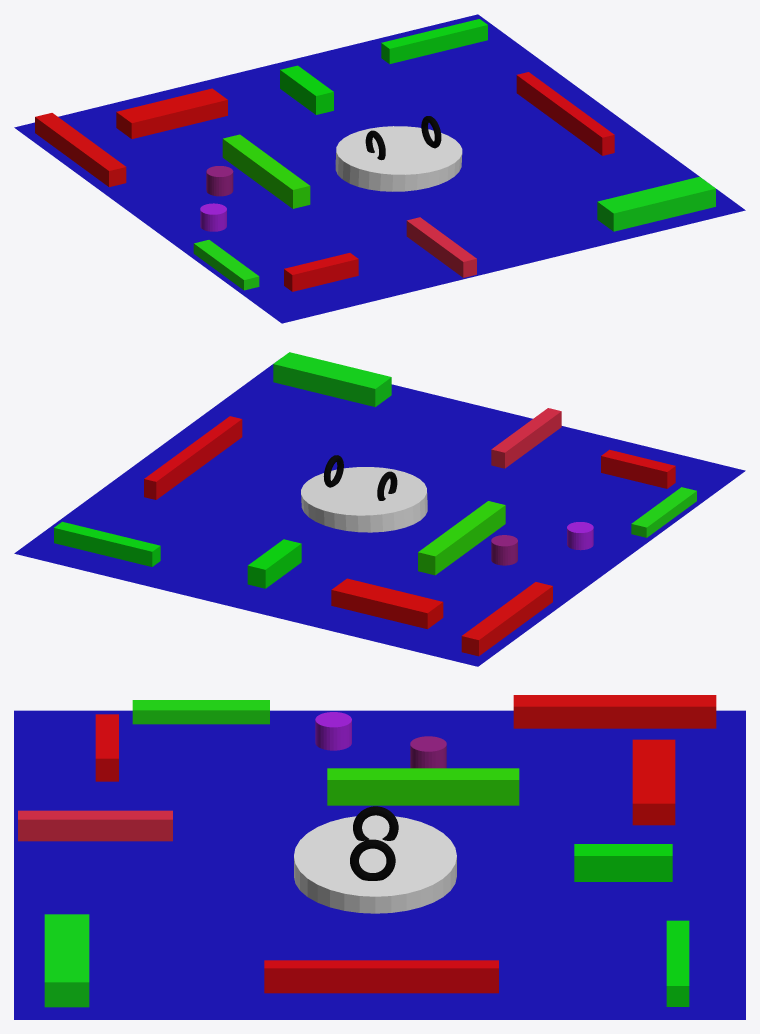
Rendered from map2.fbx.
3 views of the same model, one above another, from view 1: azimuth 30°, elevation 25°; view 2: azimuth 150°, elevation 25°; view 3: azimuth 270°, elevation 25° (orthographic). The views are drawn at different scales.
Parts seen in each view (by area): view 1: Grid, Cylinder.002, Cube.010, Cube.001, Cube.002, Cube.008, Cube, Cube.009, Cube.005, Cube.004, Cube.006, Cube.003 (+2 smaller); view 2: Grid, Cylinder.002, Cube.010, Cube.001, Cube.002, Cube.008, Cube, Cube.009, Cube.005, Cube.004, Cube.006, Cube.003 (+2 smaller); view 3: Grid, Cylinder.002, Cube.008, Cube.002, Cube, Cube.005, Cube.010, Cube.001, Cube.006, Cube.003, Cube.009, Cube.004 (+4 smaller).
Part boxes in pixels (x1,y1,x2,y2): Grid: [14, 14, 745, 323]; Cylinder.002: [335, 126, 462, 191]; Cube.010: [597, 176, 715, 231]; Cube.001: [116, 88, 227, 138]; Cube.002: [222, 134, 310, 208]; Cube.008: [516, 72, 614, 155]; Cube: [35, 113, 126, 187]; Cube.009: [381, 19, 487, 64]; Cube.005: [406, 217, 476, 277]; Cube.004: [284, 253, 358, 291]; Cube.006: [280, 65, 333, 114]; Cube.003: [193, 240, 259, 290]; Grid: [14, 361, 745, 666]; Cylinder.002: [301, 467, 427, 532]; Cube.010: [273, 352, 391, 406]; Cube.001: [331, 578, 443, 629]; Cube.002: [418, 501, 505, 575]; Cube.008: [144, 416, 242, 499]; Cube: [461, 582, 552, 656]; Cube.009: [54, 521, 160, 566]; Cube.005: [491, 408, 561, 468]; Cube.004: [601, 449, 675, 488]; Cube.006: [247, 539, 301, 588]; Cube.003: [631, 487, 696, 537]; Grid: [14, 710, 745, 1019]; Cylinder.002: [294, 815, 456, 913]; Cube.008: [264, 960, 498, 993]; Cube.002: [327, 768, 519, 805]; Cube: [513, 695, 716, 728]; Cube.005: [18, 810, 172, 841]; Cube.010: [44, 914, 89, 1007]; Cube.001: [632, 739, 675, 825]; Cube.006: [574, 844, 672, 881]; Cube.003: [132, 700, 269, 724]; Cube.009: [666, 920, 689, 1006]; Cube.004: [95, 714, 118, 781].
Size of the model in its own units: 4000 by 691 by 4000.
